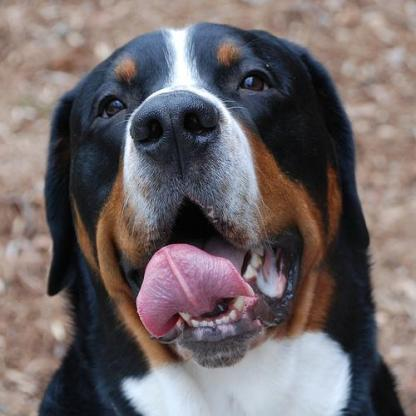Greater_Swiss_Mountain_dog: (35, 19, 404, 413)
